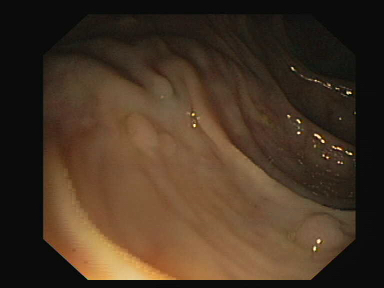polyp: (298, 209, 351, 256), (127, 111, 162, 152), (151, 71, 176, 100), (159, 128, 179, 156)
